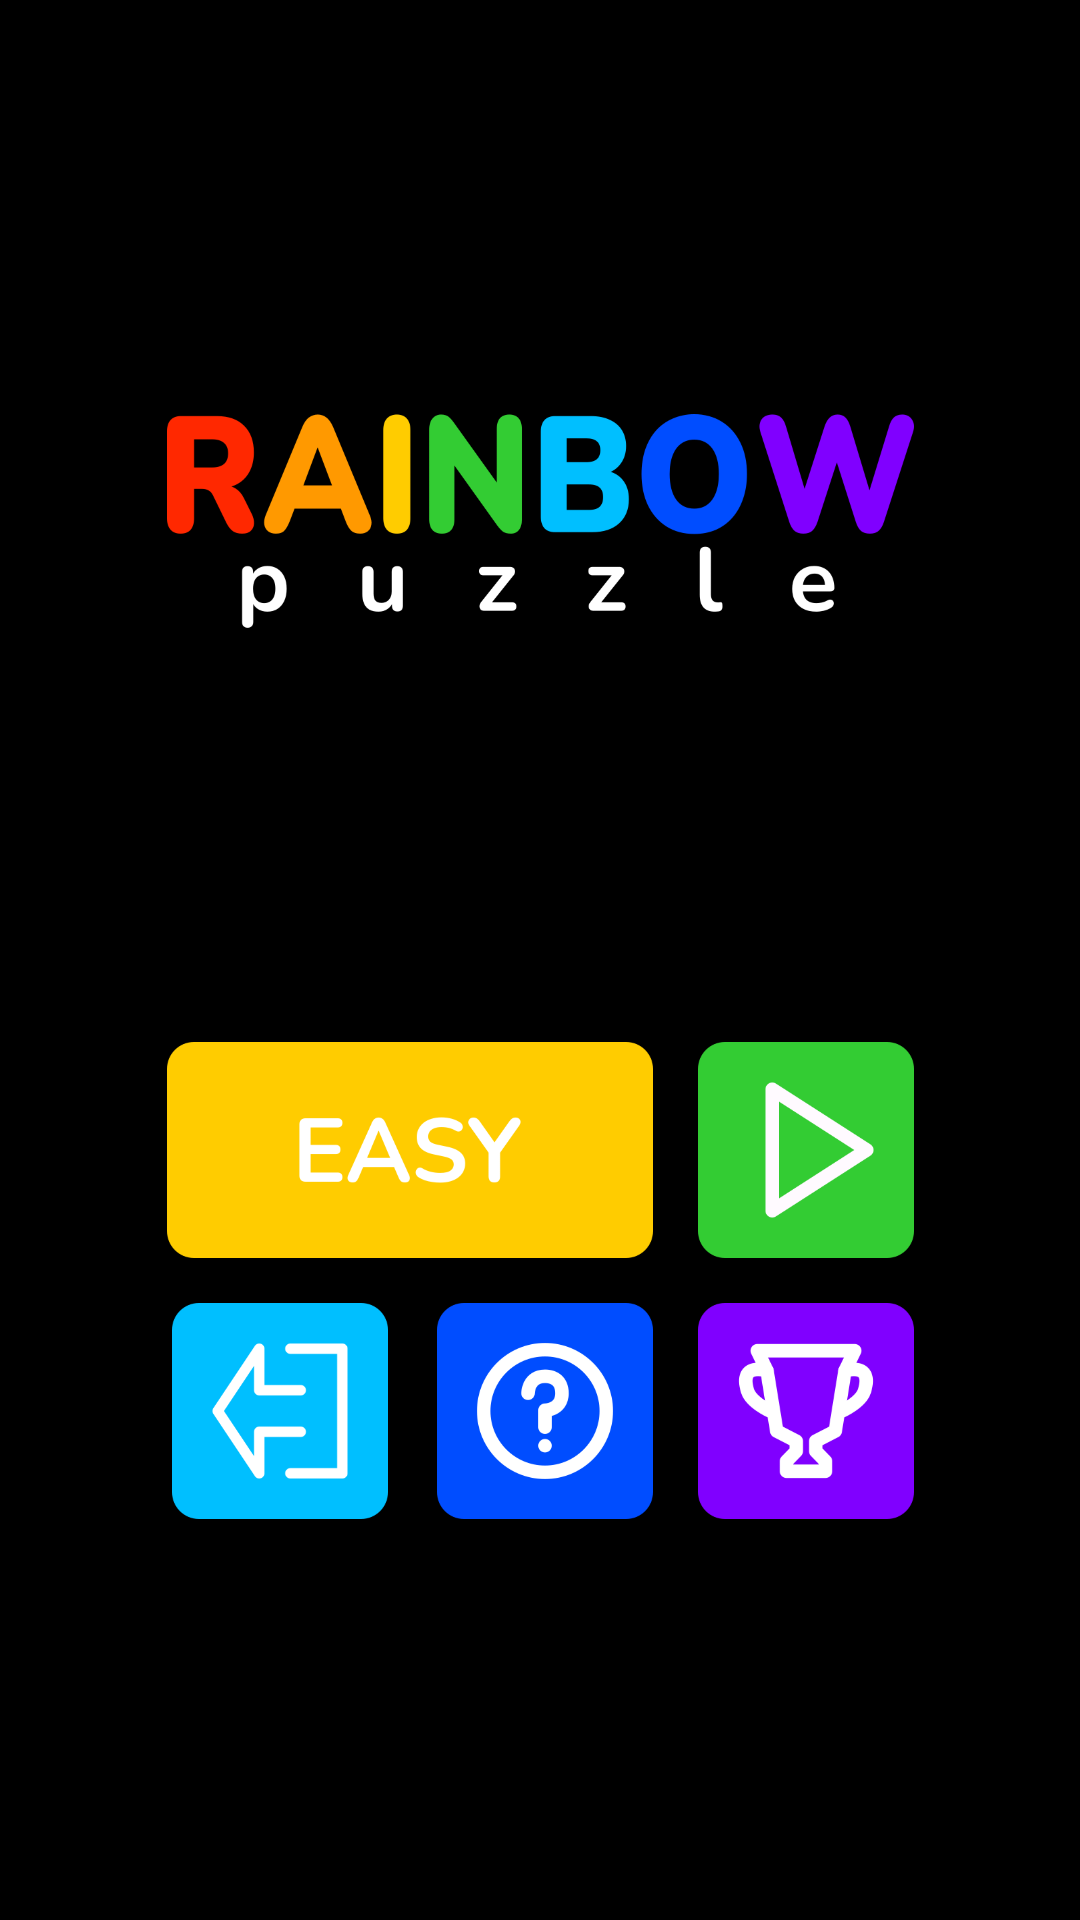

Where to tap for icons on this 1080x1920 app screen, as (x,y):
About Game: (545,1411)
Exit: (280,1411)
High Score: (806,1411)
Play: (806,1150)
